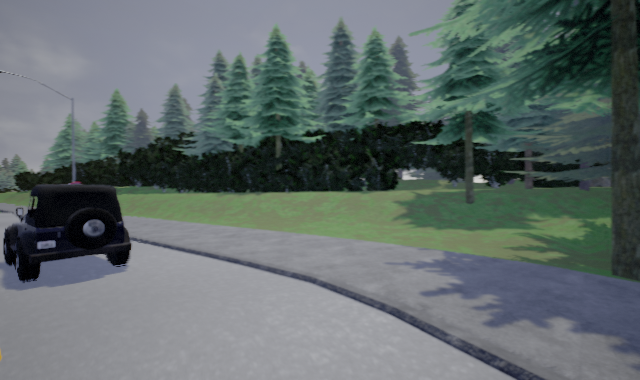vehicle: (1, 183, 131, 282)
